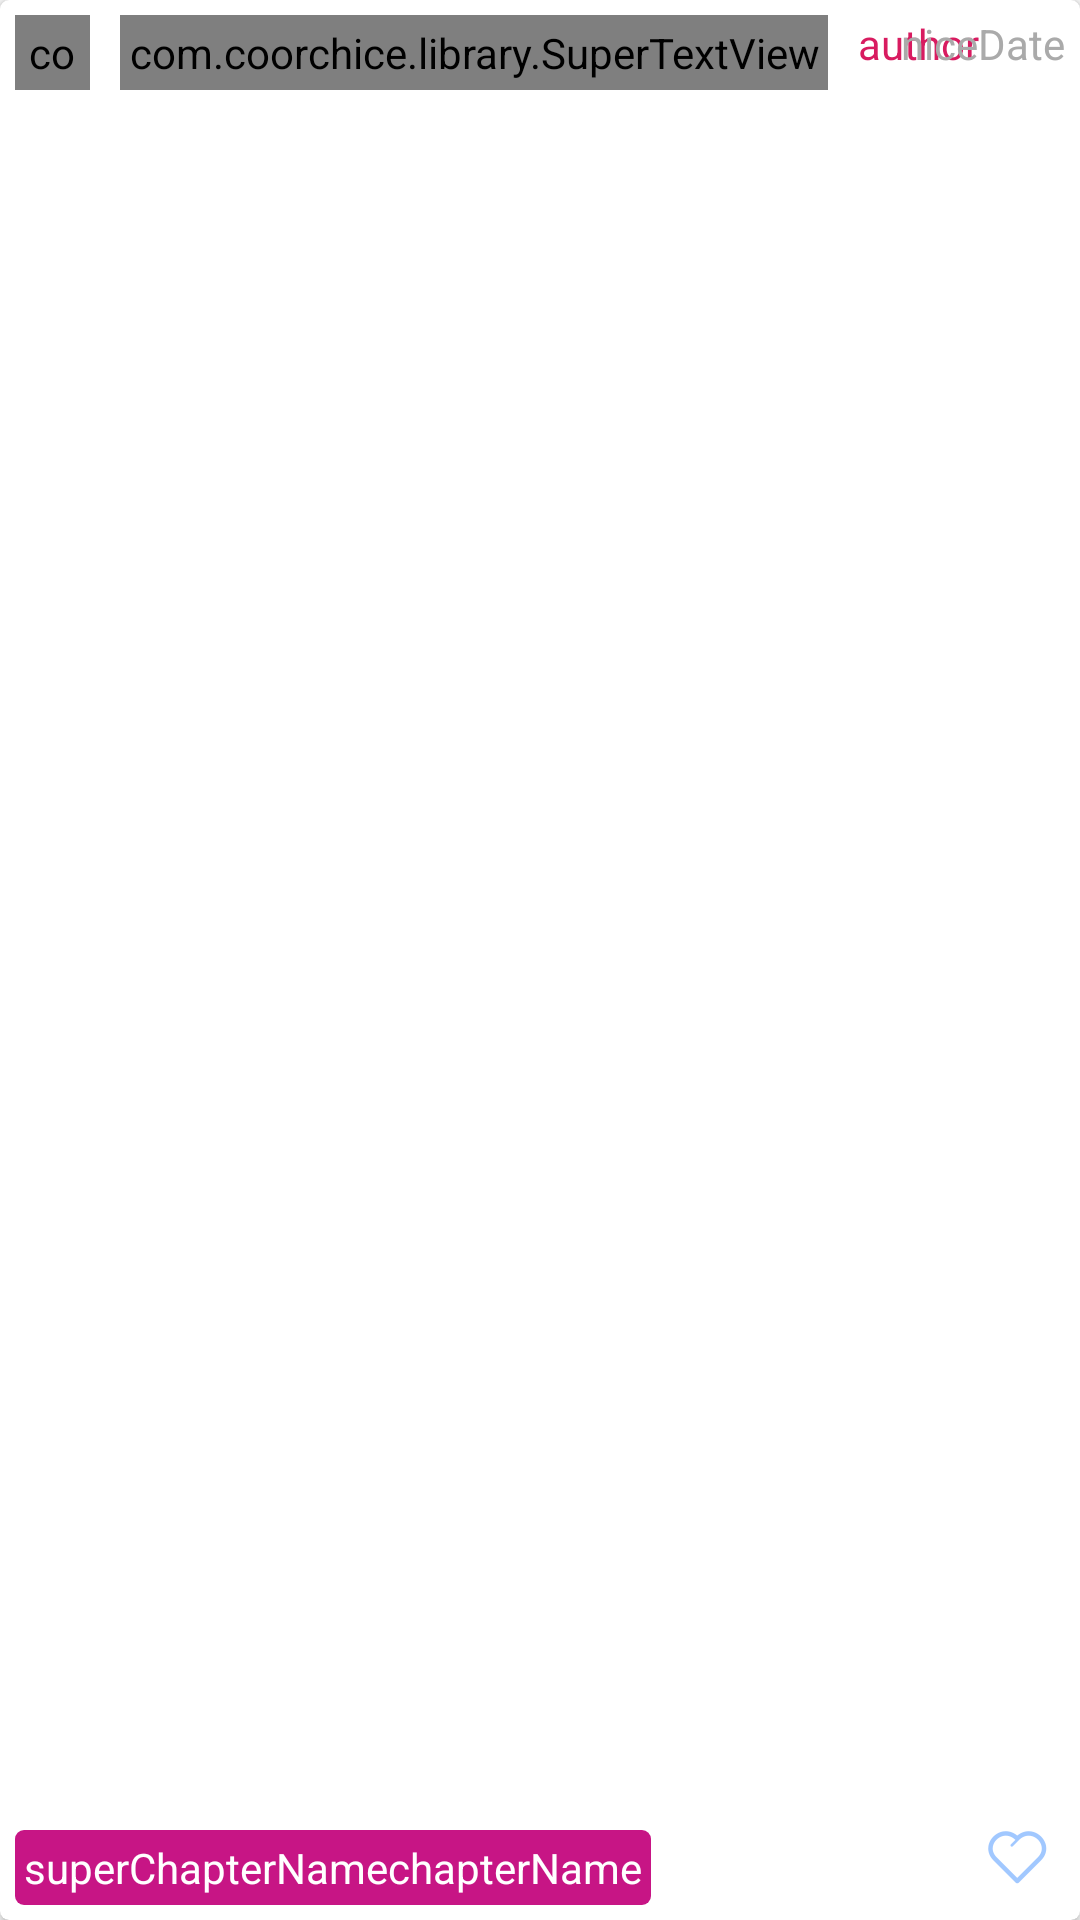

Point at icon controls on the screen. Image size 1080px×1920px, points as (x,y).
select collect: (1017,1857)
